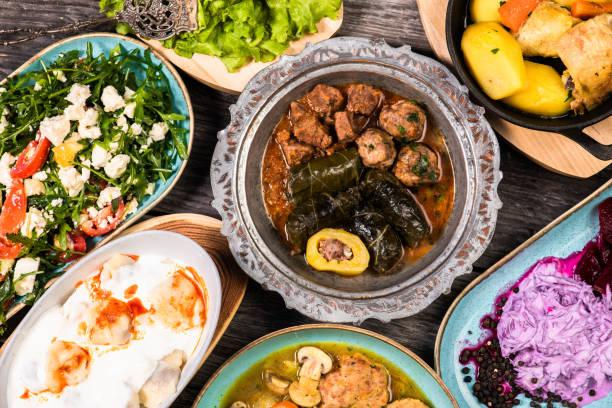Braised Crucian Carp: (210, 36, 493, 321), (0, 31, 190, 307), (0, 212, 242, 408), (450, 0, 612, 134)
